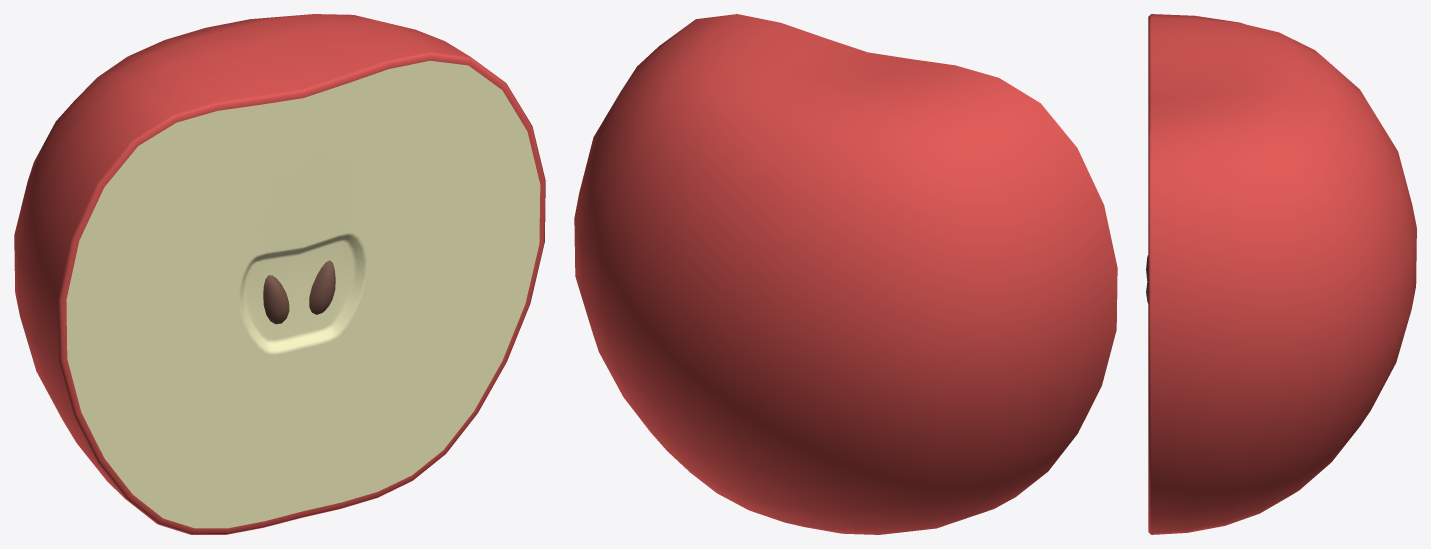
The model's file is Apple_Red_Half_2.fbx.
3 renders of one model, left to right at view 1: azimuth 30°, elevation 25°; view 2: azimuth 150°, elevation 25°; view 3: azimuth 270°, elevation 25°, orthographic. The views are drawn at different scales.
Visible parts, largest first — view 1: Apple_Red_Half_2; view 2: Apple_Red_Half_2; view 3: Apple_Red_Half_2.
Boxes of the visible parts, x1,y1,x2,y2 form: Apple_Red_Half_2: (14,14,545,534); Apple_Red_Half_2: (574,14,1117,534); Apple_Red_Half_2: (1146,14,1416,534).
Size of the model in its own units: 13.44 by 11.57 by 6.78.
